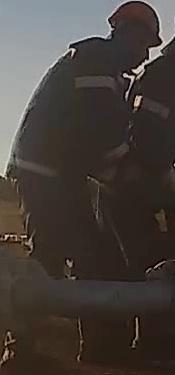helmet: (107, 1, 163, 47)
vest: (11, 42, 130, 202)
